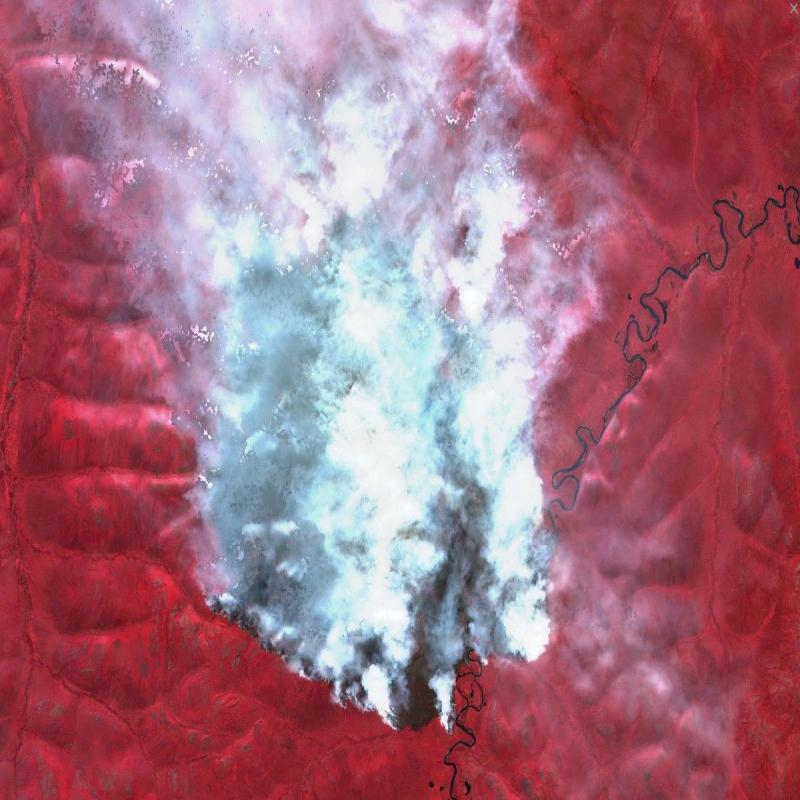fire: (185, 193, 564, 743)
